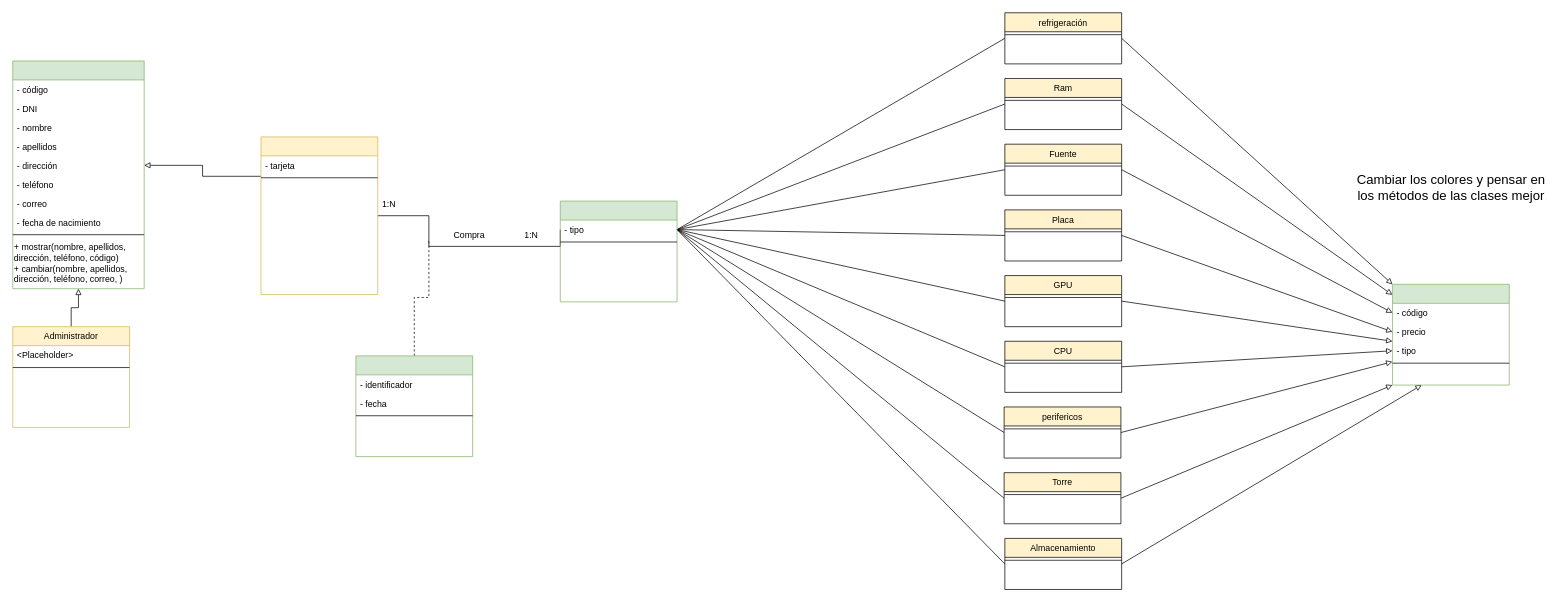
Image size: 1566x602. Some labels were removed from this diagram. Here are the shapes that lost their labels. From the top down, the box of each, then its label:
(12, 60, 144, 289): Persona
(260, 136, 378, 295): Cliente
(560, 200, 677, 302): Producto
(1392, 284, 1509, 385): Componente
(355, 355, 473, 457): Detalle compra
